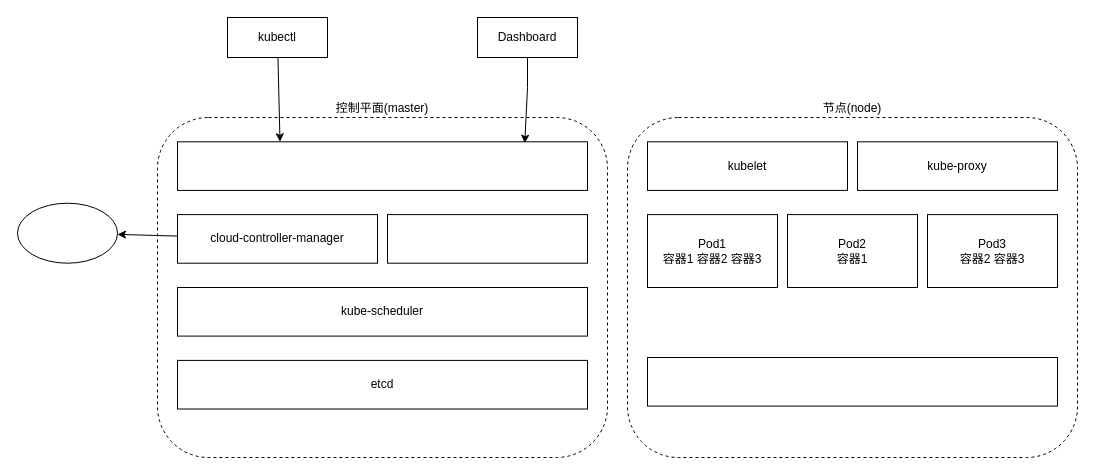
Some shapes in this 1095 by 475 pixel diagram are drawn without their labels. Each missing label, with the centre of its shape:
"container-runtime" belongs at point 852,381.
"kube-api server" belongs at point 382,165.
"kube-controller-manager" belongs at point 487,238.
"第三方云平台" belongs at point 67,232.
